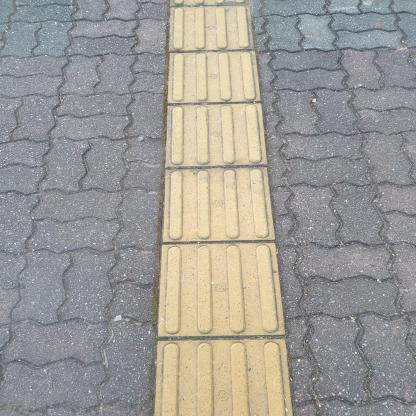podotacti: (138, 0, 304, 415)
